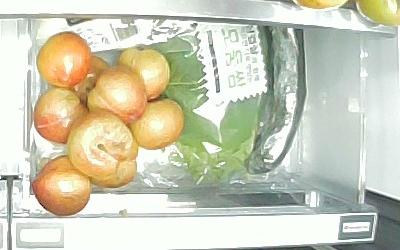prune: (69, 113, 132, 177), (30, 155, 90, 215), (87, 66, 147, 123), (36, 31, 91, 88), (34, 89, 86, 144), (117, 47, 171, 99), (132, 99, 185, 151), (89, 136, 139, 191), (69, 55, 111, 103)
